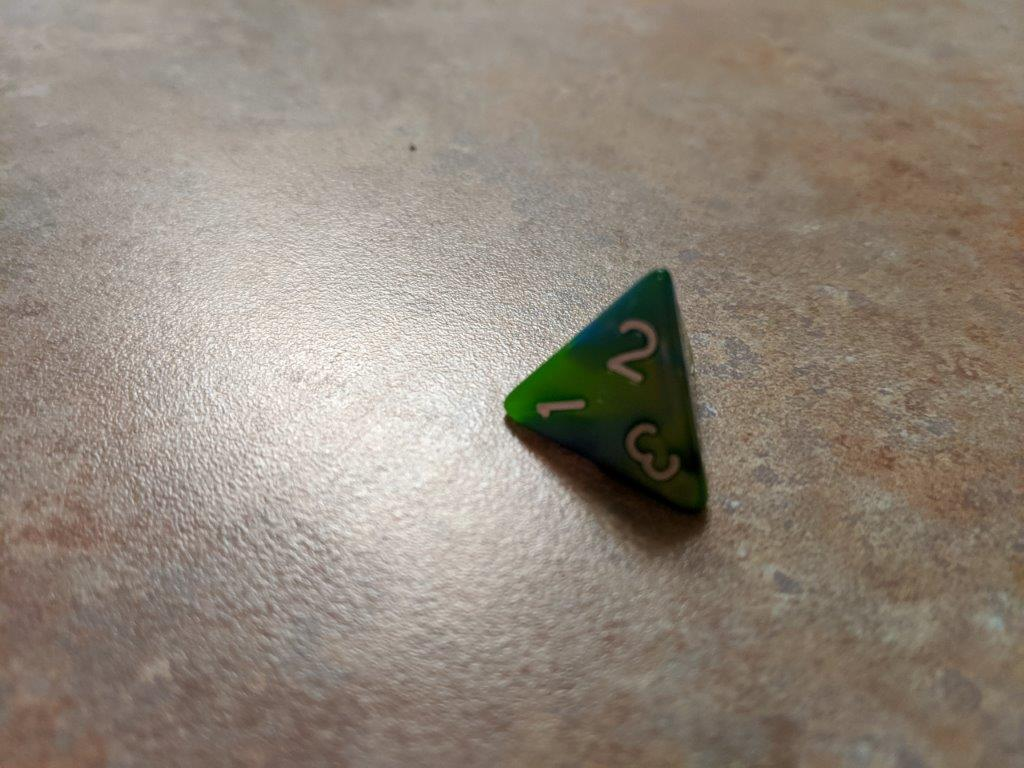d4-2: (493, 262, 716, 531)
